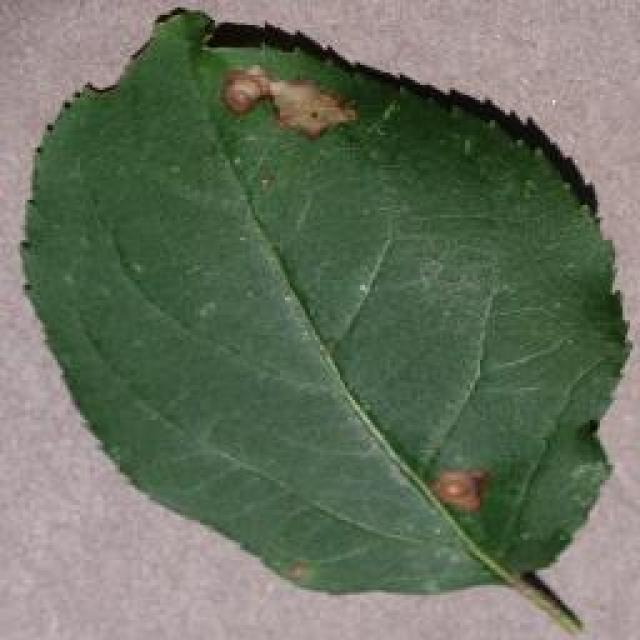Black_rot: (18, 5, 632, 635)
